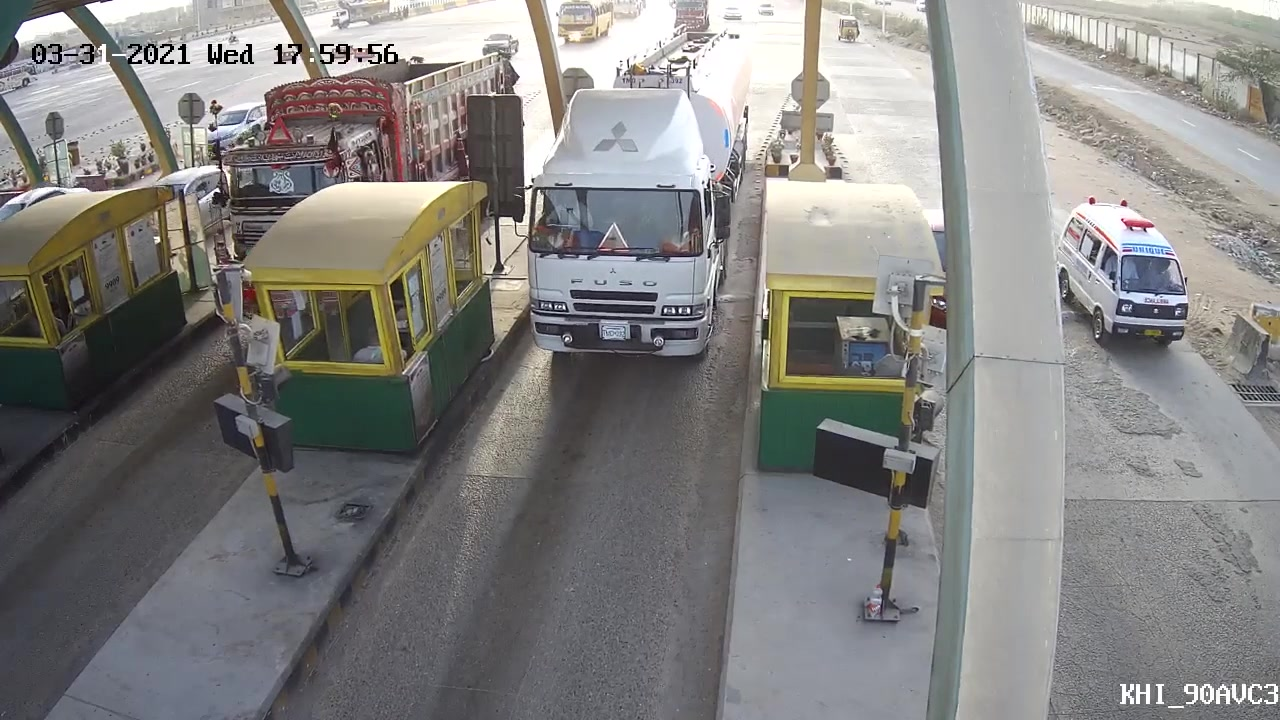F6: (508, 51, 757, 365)
